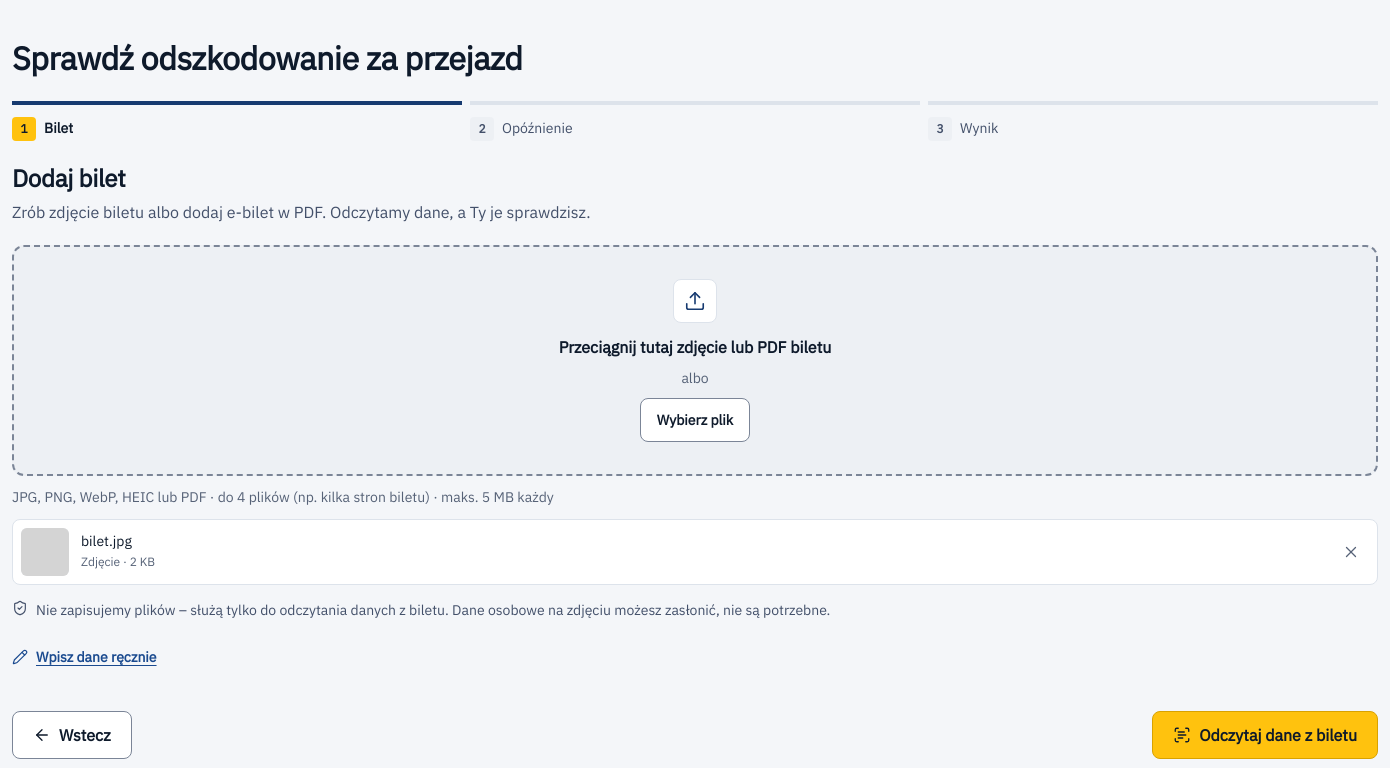
Test: Wizard – ticket step › names the fields it could not read and offers another photo
Earlier steps of the test are not shown.
Click the button "Odczytaj dane z biletu" at (1265, 736), box [1152,712,1378,760]
(page scrolled)
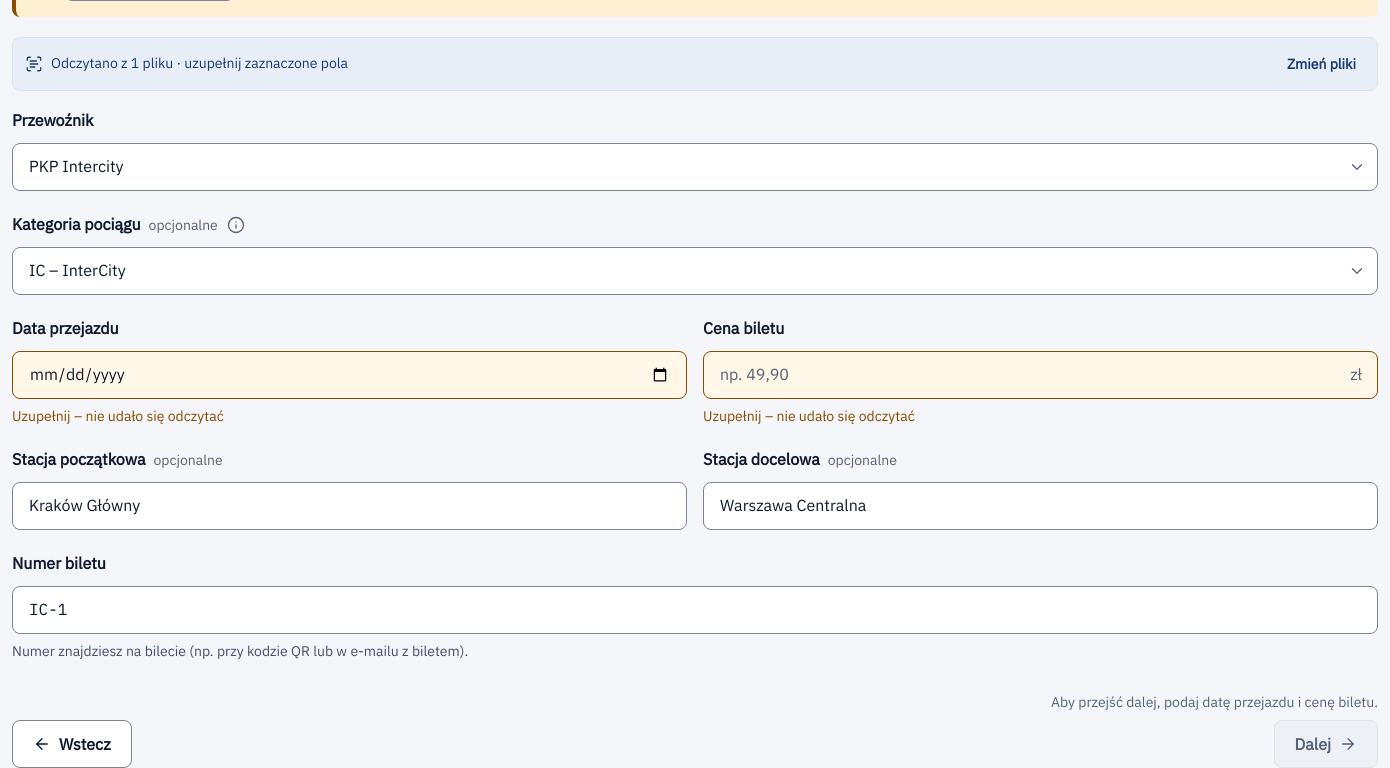
Expected: the 1st text "Uzupełnij – nie udało się odczytać" is shown, [12,407,224,425]
